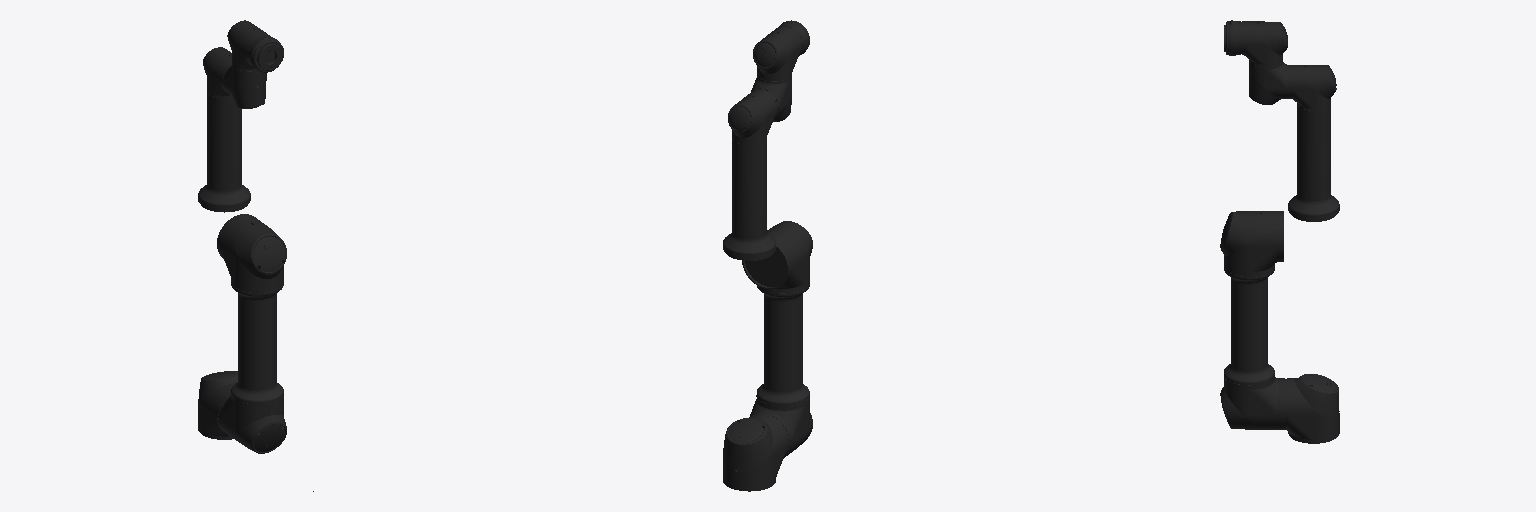
robot.urdf — rb5:
<?xml version="1.0" encoding="utf-8" ?>

<robot name="rb5">

    <material name="grey">
        <color rgba="0.2 0.2 0.2 1.0" />
    </material>

    <!--======================= Links =========================-->
    <!-- Body Base -->
    <link name="Body_Base">
        <visual>
            <origin rpy="0 0 -1.57079632679" xyz="0 0 0" />
            <geometry>
                <mesh filename="package://rb_description/meshes/rb5/visual/_1_base.dae" />
            </geometry>
            <material name="grey" />
        </visual>
        <collision>
            <origin rpy="0 0 -1.57079632679" xyz="0 0 0" />
            <geometry>
                <mesh filename="package://rb_description/meshes/rb5/collision/_1_base.stl" scale="0.001 0.001 0.001"/>
            </geometry>
        </collision>
    </link>
    <!-- Body Module 1 -->
    <link name="Body_Module_1">
        <visual>
            <origin rpy="0 0 -1.57079632679" xyz="0 0 0" />
            <geometry>
                <mesh filename="package://rb_description/meshes/rb5/visual/_2_module_1.dae" />
            </geometry>
            <material name="grey" />
        </visual>
        <collision>
            <origin rpy="0 0 -1.57079632679" xyz="0 0 0" />
            <geometry>
                <mesh filename="package://rb_description/meshes/rb5/collision/_2_module_1.stl" scale="0.001 0.001 0.001"/>
            </geometry>
        </collision>
    </link>
    <!-- Body Module 2 -->
    <link name="Body_Module_2">
        <visual>
            <origin rpy="0 0 -1.57079632679" xyz="0 0 -0.1692" />
            <geometry>
                <mesh filename="package://rb_description/meshes/rb5/visual/_3_module_2.dae"/>
            </geometry>
            <material name="grey" />
        </visual>
        <collision>
            <origin rpy="0 0 -1.57079632679" xyz="0 0 -0.1692" />
            <geometry>
                <mesh filename="package://rb_description/meshes/rb5/collision/_3_module_2.stl" scale="0.001 0.001 0.001"/>
            </geometry>
        </collision>
    </link>
    <!-- Body Pipe 1 -->
    <link name="Body_Pipe_1">
        <visual>
            <origin rpy="0 0 -1.57079632679" xyz="0 0 -0.1692" />
            <geometry>
                <mesh filename="package://rb_description/meshes/rb5/visual/_4_pipe_1.dae" />
            </geometry>
            <material name="grey" />
        </visual>
        <collision>
            <origin rpy="0 0 -1.57079632679" xyz="0 0 -0.1692" />
            <geometry>
                <mesh filename="package://rb_description/meshes/rb5/collision/_4_pipe_1.stl" scale="0.001 0.001 0.001"/>
            </geometry>
        </collision>
    </link>
    <!-- Body Module 3 -->
    <link name="Body_Module_3">
        <visual>
            <origin rpy="0 0 -1.57079632679" xyz="0 0 -0.1692" />
            <geometry>
                <mesh filename="package://rb_description/meshes/rb5/visual/_5_module_3.dae" />
            </geometry>
            <material name="grey" />
        </visual>
        <collision>
            <origin rpy="0 0 -1.57079632679" xyz="0 0 -0.1692" />
            <geometry>
                <mesh filename="package://rb_description/meshes/rb5/collision/_5_module_3.stl" scale="0.001 0.001 0.001"/>
            </geometry>
        </collision>
    </link>
    <!-- Body Module Dummy -->
    <link name="Body_Module_Dummy">
        <visual>
            <origin rpy="0 0 -1.57079632679" xyz="0 0 -0.5942" />
            <geometry>
                <mesh filename="package://rb_description/meshes/rb5/visual/_6_module_dummy.dae" />
            </geometry>
            <material name="grey" />
        </visual>
        <collision>
            <origin rpy="0 0 -1.57079632679" xyz="0 0 -0.5942" />
            <geometry>
                <mesh filename="package://rb_description/meshes/rb5/collision/_6_module_dummy.stl" scale="0.001 0.001 0.001"/>
            </geometry>
        </collision>
    </link>
    <!-- Body Pipe 2 -->
    <link name="Body_Pipe_2">
        <visual>
            <origin rpy="0 0 -1.57079632679" xyz="0 0 -0.5942" />
            <geometry>
                <mesh filename="package://rb_description/meshes/rb5/visual/_7_pipe_2.dae" />
            </geometry>
            <material name="grey" />
        </visual>
        <collision>
            <origin rpy="0 0 -1.57079632679" xyz="0 0 -0.5942" />
            <geometry>
                <mesh filename="package://rb_description/meshes/rb5/collision/_7_pipe_2.stl" scale="0.001 0.001 0.001"/>
            </geometry>
        </collision>
    </link>
    <!-- Body Module 4 -->
    <link name="Body_Module_4">
        <visual>
            <origin rpy="0 0 -1.57079632679" xyz="0 0 -0.5942" />
            <geometry>
                <mesh filename="package://rb_description/meshes/rb5/visual/_8_module_4.dae" />
            </geometry>
            <material name="grey" />
        </visual>
        <collision>
            <origin rpy="0 0 -1.57079632679" xyz="0 0 -0.5942" />
            <geometry>
                <mesh filename="package://rb_description/meshes/rb5/collision/_8_module_4.stl" scale="0.001 0.001 0.001"/>
            </geometry>
        </collision>
    </link>
    <!-- Body Module 5 -->
    <link name="Body_Module_5">
        <visual>
            <origin rpy="0 0 -1.57079632679" xyz="0 0 -0.9862" />
            <geometry>
                <mesh filename="package://rb_description/meshes/rb5/visual/_9_module_5.dae"/>
            </geometry>
            <material name="grey" />
        </visual>
        <collision>
            <origin rpy="0 0 -1.57079632679" xyz="0 0 -0.9862" />
            <geometry>
                <mesh filename="package://rb_description/meshes/rb5/collision/_9_module_5.stl" scale="0.001 0.001 0.001"/>
            </geometry>
        </collision>
    </link>
    <!-- Body Module 6 -->
    <link name="Body_Module_6">
        <visual>
            <origin rpy="0 0 -1.57079632679" xyz="0 0.1107 -0.9862" />
            <geometry>
                <mesh filename="package://rb_description/meshes/rb5/visual/_10_module_6.dae" />
            </geometry>
            <material name="grey" />
        </visual>
        <collision>
            <origin rpy="0 0 -1.57079632679" xyz="0 0.1107 -0.9862" />
            <geometry>
                <mesh filename="package://rb_description/meshes/rb5/collision/_10_module_6.stl" scale="0.001 0.001 0.001"/>
            </geometry>
        </collision>
    </link>
    <!-- Body Tool Flange -->
    <link name="Body_Tool_Flange">
        <visual>
            <origin rpy="0 0 -1.57079632679" xyz="0 0.1107 -1.0969" />
            <geometry>
                <mesh filename="package://rb_description/meshes/rb5/visual/_11_tool_flange.dae" />
            </geometry>
            <material name="grey" />
        </visual>
        <collision>
            <origin rpy="0 0 -1.57079632679" xyz="0 0.1107 -1.0969" />
            <geometry>
                <mesh filename="package://rb_description/meshes/rb5/collision/_11_tool_flange.stl" scale="0.001 0.001 0.001"/>
            </geometry>
        </collision>
    </link>
    <link name="Tool_Center_Point">
        <visual>
            <origin rpy="0 0 0" xyz="0.1107 0 -1.0969" />
            <geometry>
                <box size="0.001 0.001 0.001" />
            </geometry>
            <material name="grey" />
        </visual>
    </link>


    <!--======================= Joints =========================-->
    <joint name="base" type="revolute">
        <parent link="Body_Base" />
        <child link="Body_Module_1" />
        <origin rpy="0 0 0" xyz="0 0 0" />
        <axis xyz="0 0 1" />
        <limit effort="10.0" lower="-6.28318530718" upper="6.28318530718" velocity="2.5" />
    </joint>
    <joint name="shoulder" type="revolute">
        <parent link="Body_Module_1" />
        <child link="Body_Module_2" />
        <origin rpy="0 0 0" xyz="0 0 0.1692" />
        <axis xyz="0 1 0" />
        <limit effort="10.0" lower="-6.28318530718" upper="6.28318530718" velocity="2.5" />
    </joint>
    <joint name="module2_to_pipe1" type="fixed">
        <parent link="Body_Module_2" />
        <child link="Body_Pipe_1" />
        <origin rpy="0 0 0" xyz="0 0 0" />
    </joint>
    <joint name="pipe1_to_module3" type="fixed">
        <parent link="Body_Pipe_1" />
        <child link="Body_Module_3" />
        <origin rpy="0 0 0" xyz="0 0 0" />
    </joint>
    <joint name="elbow" type="revolute">
        <parent link="Body_Module_3" />
        <child link="Body_Module_Dummy" />
        <origin rpy="0 0 0" xyz="0 0 0.425" />
        <axis xyz="0 1 0" />
        <limit effort="10.0" lower="-2.88" upper="2.88" velocity="2.5" />
    </joint>
    <joint name="moduled_to_pipe2" type="fixed">
        <parent link="Body_Module_Dummy" />
        <child link="Body_Pipe_2" />
        <origin rpy="0 0 0" xyz="0 0 0" />
    </joint>
    <joint name="Pipe2_to_Module4" type="fixed">
        <parent link="Body_Pipe_2" />
        <child link="Body_Module_4" />
        <origin rpy="0 0 0" xyz="0 0 0" />
    </joint>
    <joint name="wrist1" type="revolute">
        <parent link="Body_Module_4" />
        <child link="Body_Module_5" />
        <origin rpy="0 0 0" xyz="0 0 0.392" />
        <axis xyz="0 1 0" />
        <limit effort="10.0" lower="-6.28318530718" upper="6.28318530718" velocity="2.5" />
    </joint>
    <joint name="wrist2" type="revolute">
        <parent link="Body_Module_5" />
        <child link="Body_Module_6" />
        <origin rpy="0 0 0" xyz="0 -0.1107 0" />
        <axis xyz="0 0 1" />
        <limit effort="10.0" lower="-6.28318530718" upper="6.28318530718" velocity="2.5" />
    </joint>
    <joint name="wrist3" type="revolute">
        <parent link="Body_Module_6" />
        <child link="Body_Tool_Flange" />
        <origin rpy="0 0 0" xyz="0 0 0.1107" />
        <axis xyz="0 1 0" />
        <limit effort="10.0" lower="-6.28318530718" upper="6.28318530718" velocity="2.5" />
    </joint>
    <joint name="Tool_Flange" type="fixed">
        <parent link="Body_Tool_Flange" />
        <child link="Tool_Center_Point" />
        <origin rpy="0 0 0" xyz="0 -0.0967 0" />
        <axis xyz="0 0 0" />
    </joint>

</robot>

--- Facts derived from the render (not from the file) ---
Views: 3 orthographic renders of the robot side by side, from view 1: azimuth 30°, elevation 25°; view 2: azimuth 150°, elevation 25°; view 3: azimuth 270°, elevation 25°.
Robot: rb5 — 12 links, 11 joints (6 revolute, 5 fixed); root link Body_Base; default pose: every joint at zero.
Visible links, largest first — view 1: Body_Pipe_1, Body_Pipe_2, Body_Module_3, Body_Module_2, Body_Module_1, Body_Module_5, Body_Module_6, Body_Tool_Flange, Body_Module_4; view 2: Body_Pipe_1, Body_Pipe_2, Body_Module_1, Body_Module_3, Body_Module_6, Body_Module_4, Body_Module_2, Body_Module_5; view 3: Body_Pipe_1, Body_Pipe_2, Body_Module_1, Body_Module_3, Body_Module_2, Body_Module_4, Body_Module_6, Body_Module_5.
Link boxes in pixels (box(x1,y1,x2,y2)): Body_Pipe_1: box(231, 280, 283, 406); Body_Pipe_2: box(198, 90, 250, 212); Body_Module_3: box(217, 214, 286, 289); Body_Module_2: box(218, 393, 286, 453); Body_Module_1: box(198, 371, 237, 439); Body_Module_5: box(223, 64, 266, 108); Body_Module_6: box(227, 20, 272, 68); Body_Tool_Flange: box(248, 36, 283, 72); Body_Module_4: box(203, 47, 231, 95); Body_Pipe_1: box(756, 281, 809, 408); Body_Pipe_2: box(723, 137, 775, 260); Body_Module_1: box(723, 413, 789, 491); Body_Module_3: box(742, 221, 812, 289); Body_Module_6: box(753, 25, 803, 78); Body_Module_4: box(728, 89, 778, 142); Body_Module_2: box(750, 399, 812, 457); Body_Module_5: box(751, 73, 791, 121); Body_Pipe_1: box(1224, 265, 1274, 387); Body_Pipe_2: box(1288, 103, 1339, 221); Body_Module_1: box(1281, 374, 1339, 443); Body_Module_3: box(1220, 211, 1283, 273); Body_Module_2: box(1220, 377, 1280, 429); Body_Module_4: box(1287, 65, 1336, 107); Body_Module_6: box(1239, 21, 1287, 64); Body_Module_5: box(1249, 59, 1286, 104).
Size in the robot's own frame: 0.1702 by 0.2741 by 1.14 metres.
9 mesh visuals loaded from 11 distinct referenced files (9 Collada DAE); not drawn: 2 (reference not matched to a file when rendering).